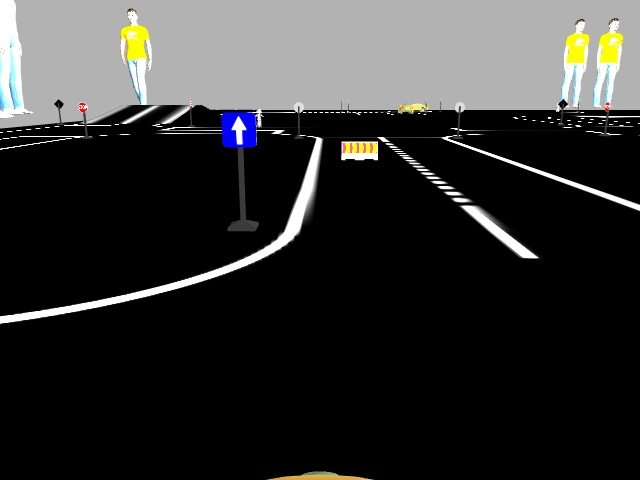ClosedRoadStand: (343, 141, 377, 159)
OneWay: (221, 113, 254, 148)
